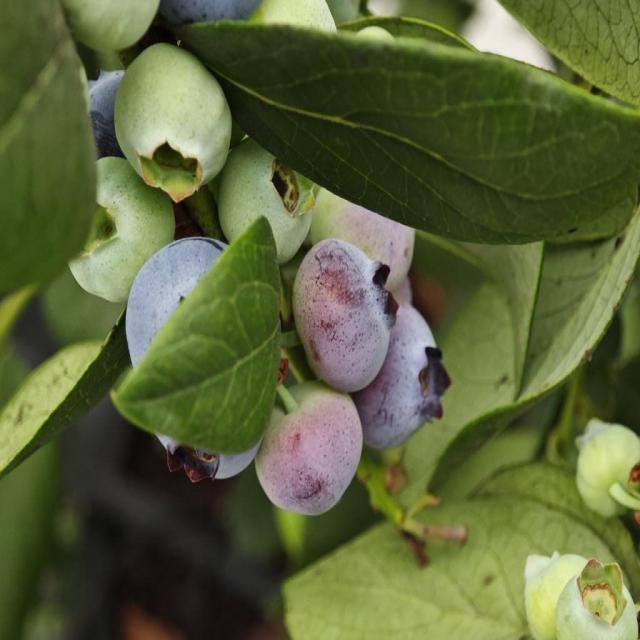Semi-RipeBlueBerry: (293, 237, 393, 394), (256, 383, 366, 518)
UnripeBlueBerry: (114, 41, 226, 196)
